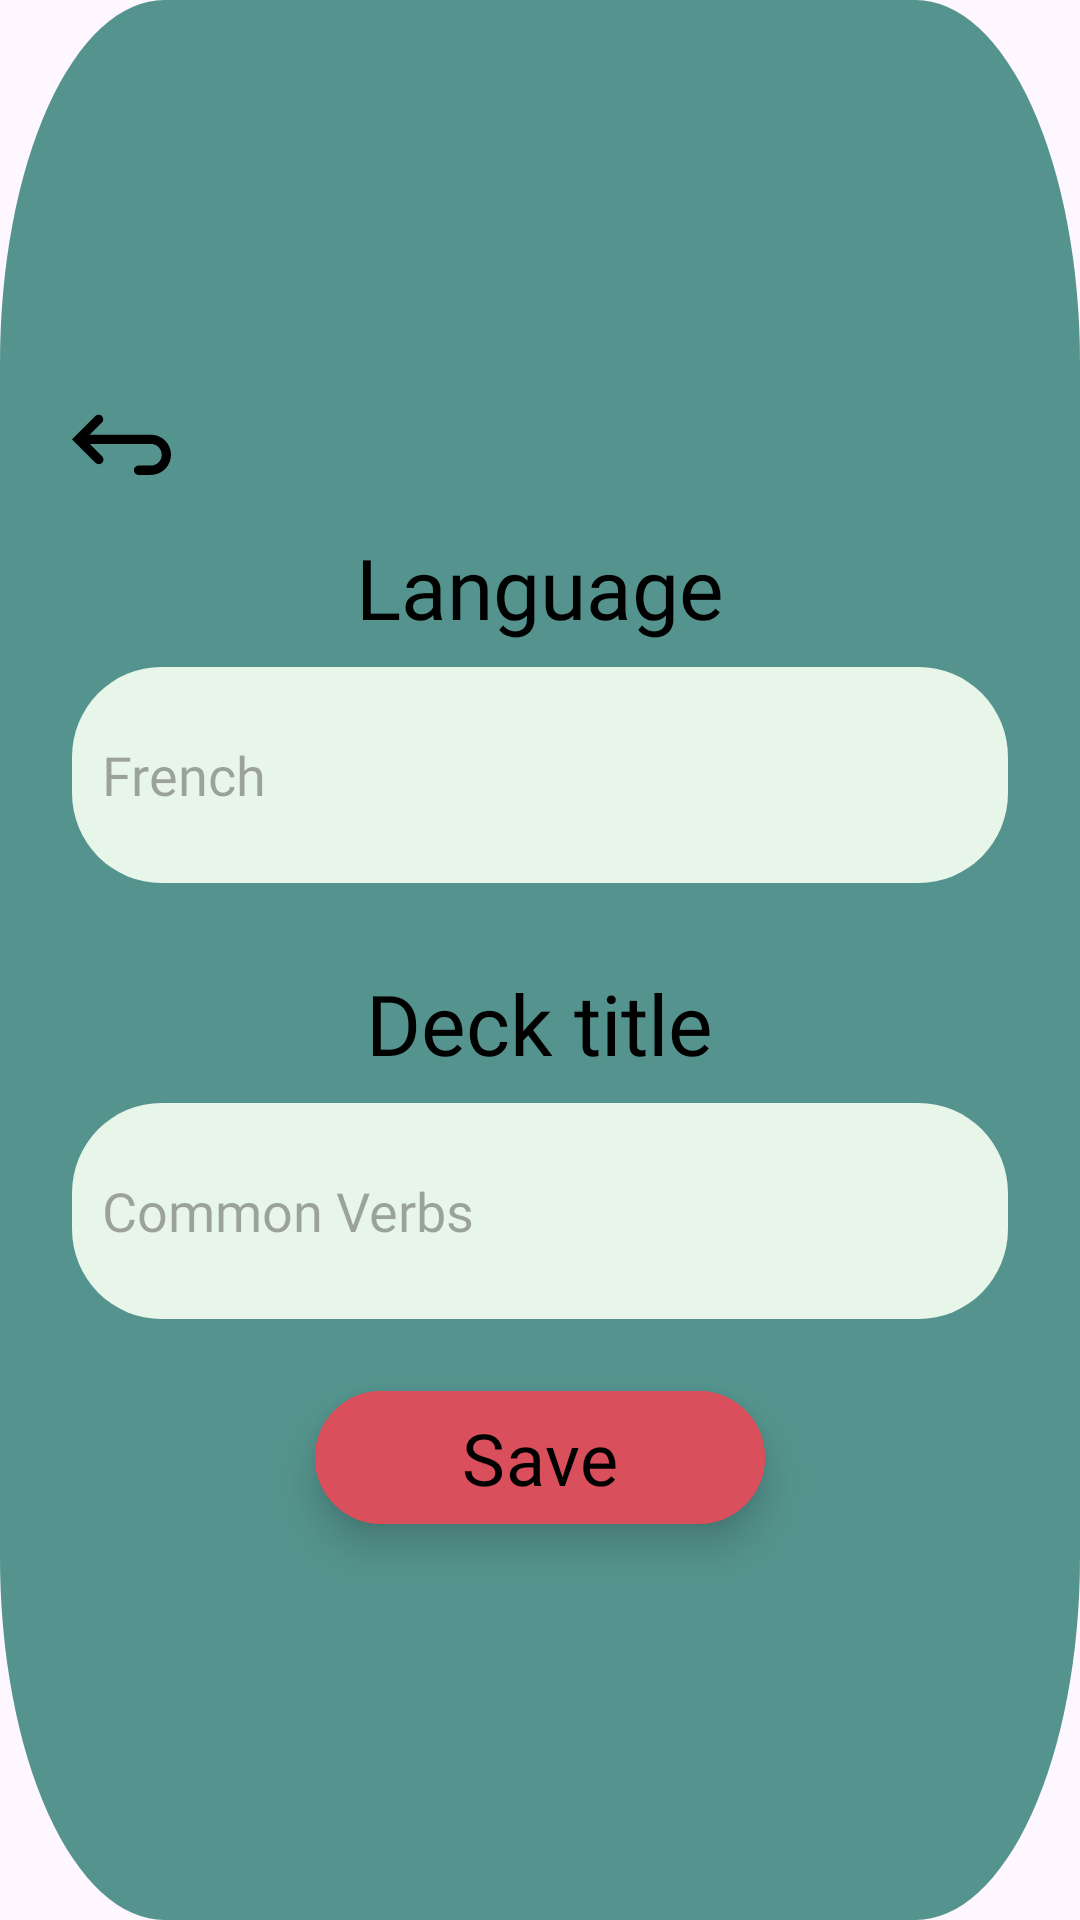

Named icons in this screenshot (1080 x 1920) and their centers, [x,y]:
back: [121,444]
